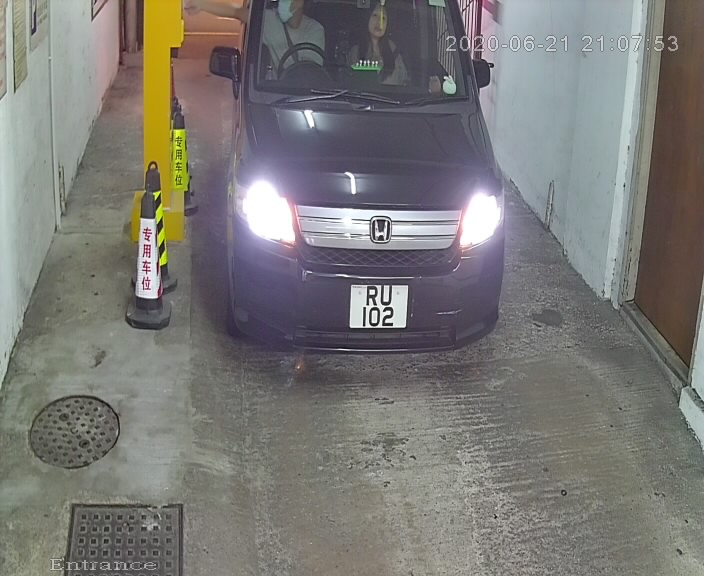privatecar: (205, 1, 518, 400)
